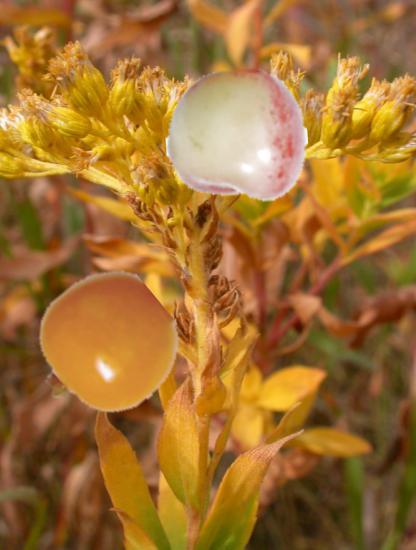Cherry: (166, 66, 308, 208)
Physalis: (30, 275, 176, 421)
